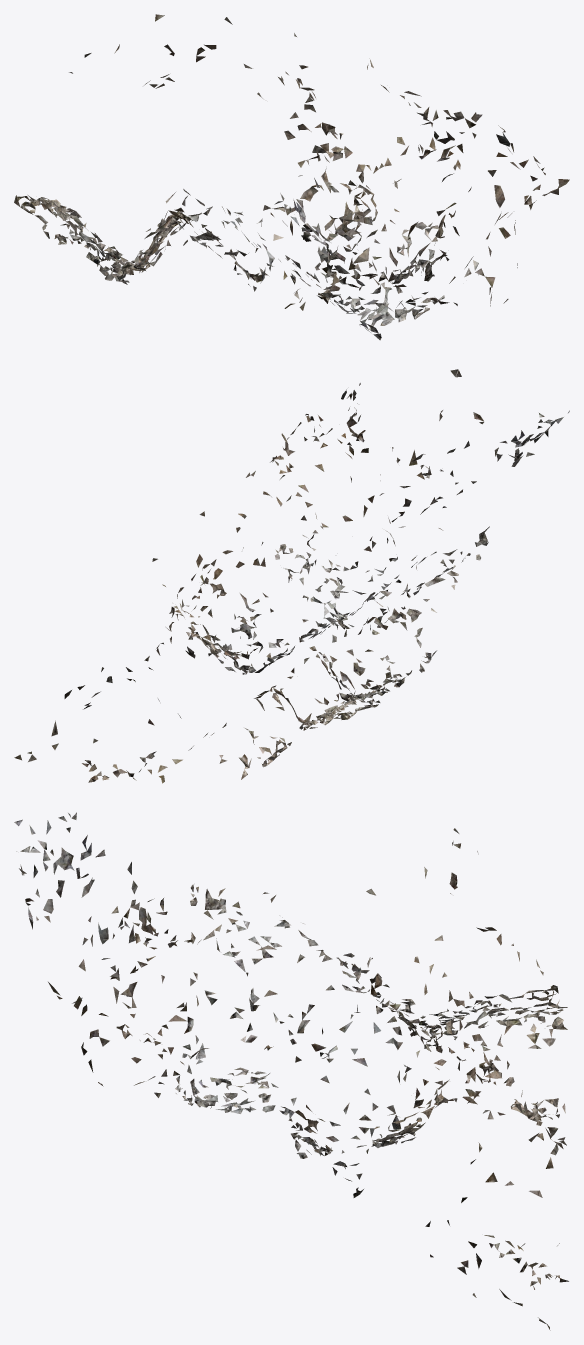
3 renders of one model, top to bottom at view 1: azimuth 30°, elevation 25°; view 2: azimuth 150°, elevation 25°; view 3: azimuth 270°, elevation 25°, orthographic. The views are drawn at different scales.
Bounding box in the file's own units: 4.49 × 3.59 × 5.35.
Materials: 1 (1 with a texture image).
